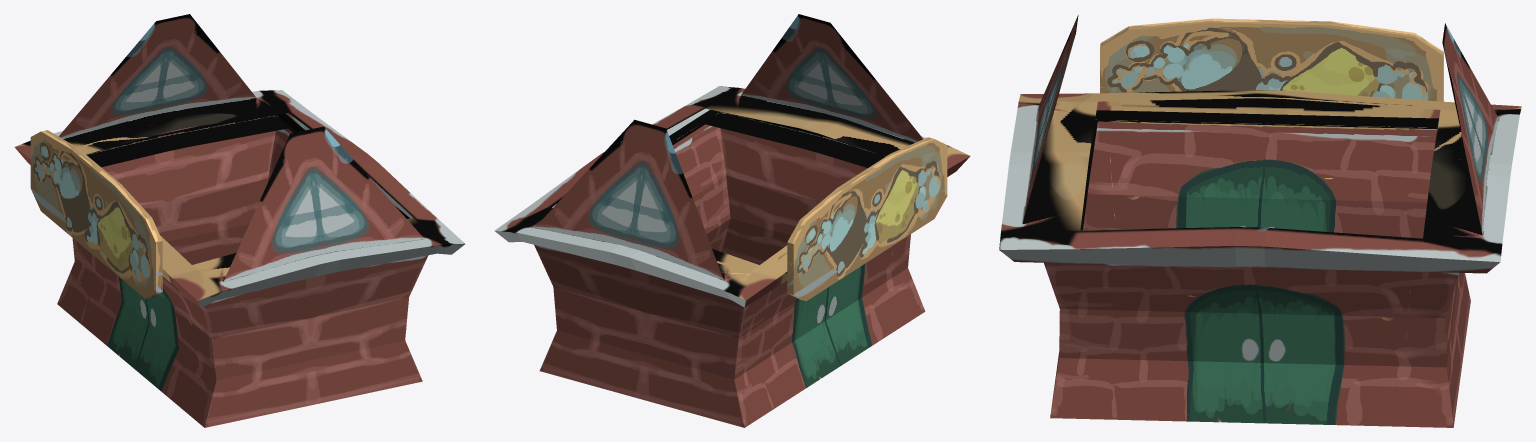
File: Bathhouse.fbx
The picture shows the model from 3 angles, left to right: view 1: azimuth 30°, elevation 25°; view 2: azimuth 150°, elevation 25°; view 3: azimuth 270°, elevation 25°; orthographic projection. The views are drawn at different scales.
Parts seen in each view (by area): view 1: Cube.010; view 2: Cube.010; view 3: Cube.010.
Part boxes in pixels (x1,y1,x2,y2): Cube.010: (14,14,464,427); Cube.010: (494,14,970,427); Cube.010: (999,15,1521,427).
Size of the model in its own units: 170 by 151 by 216.
1 material, 1 textured.
